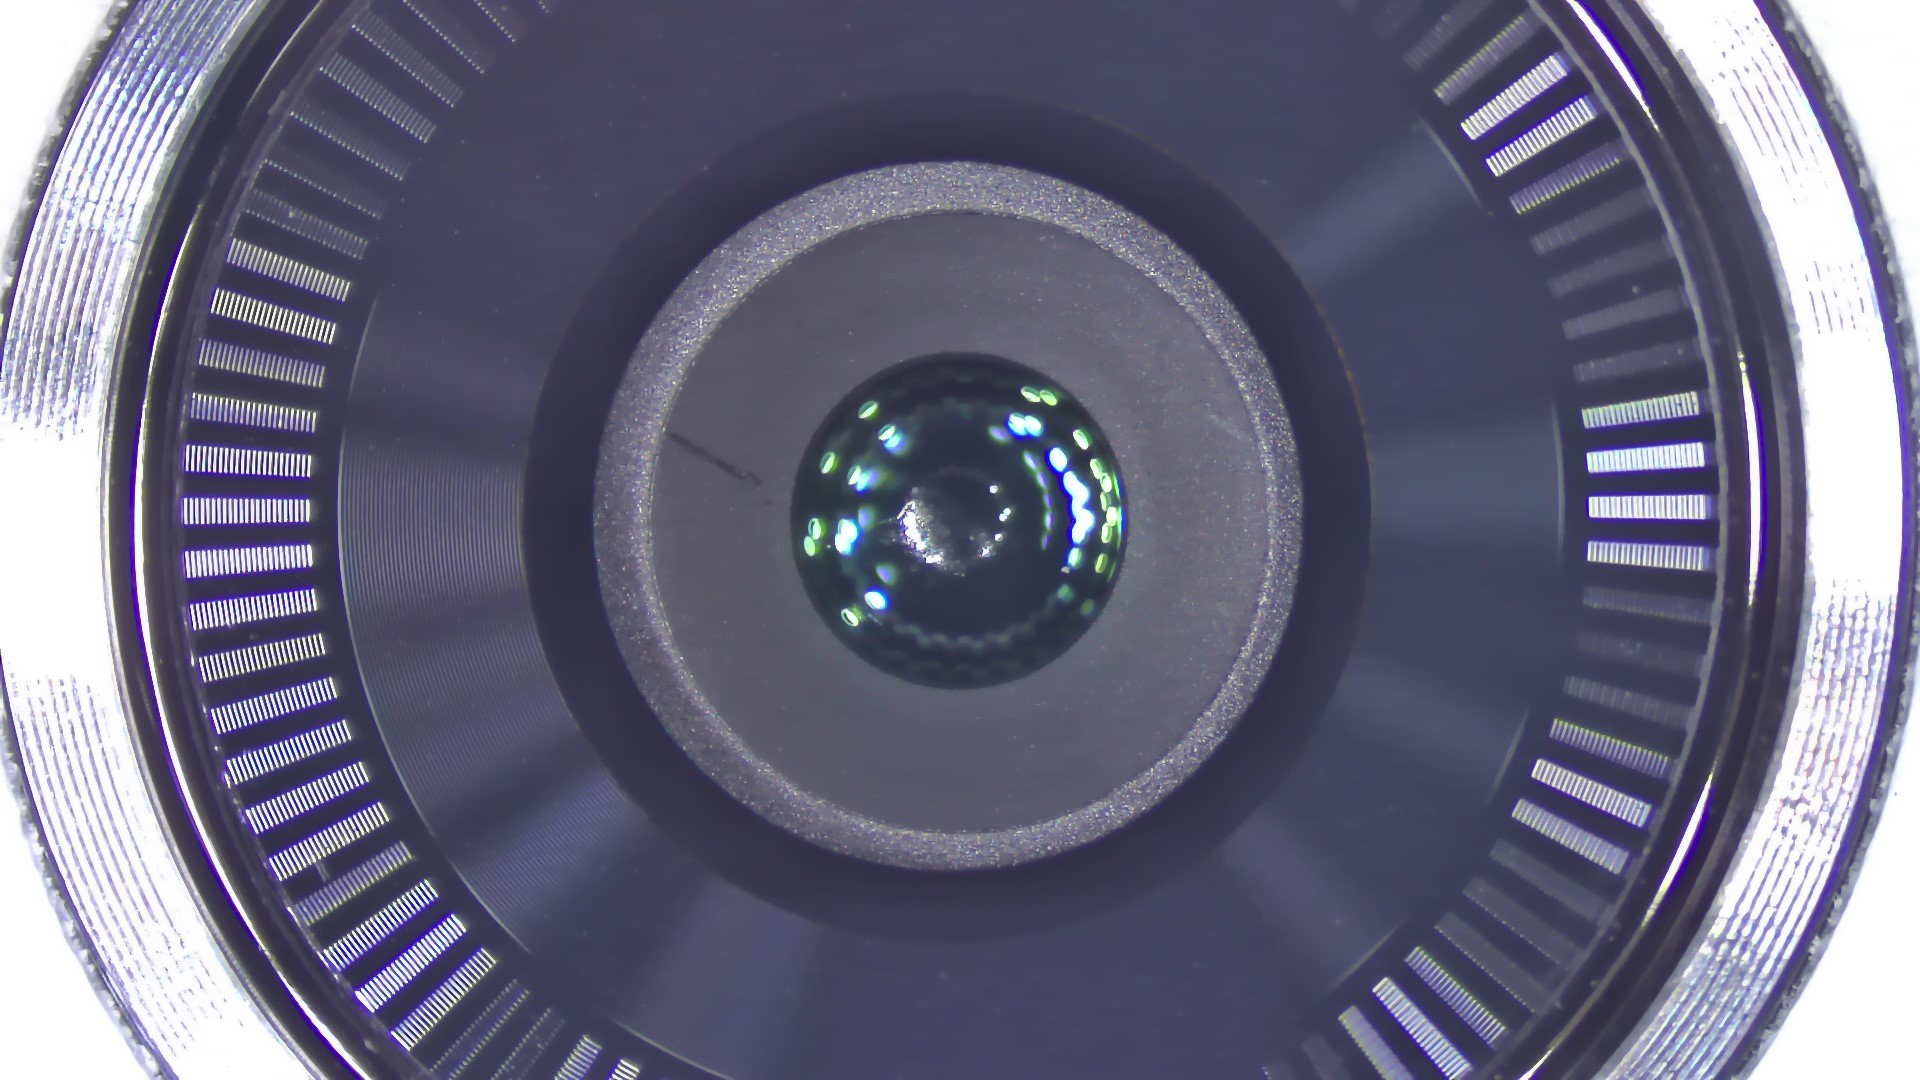crack: (659, 411, 782, 512)
